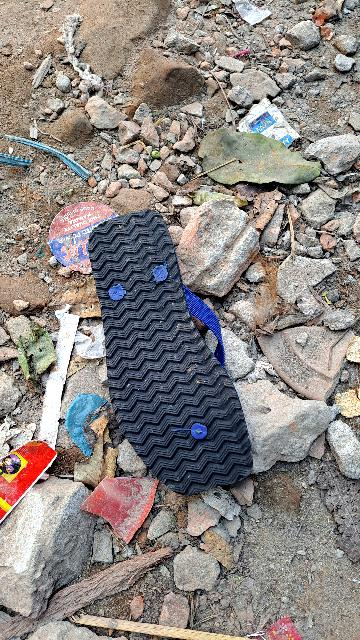sandal: (35, 187, 274, 517)
